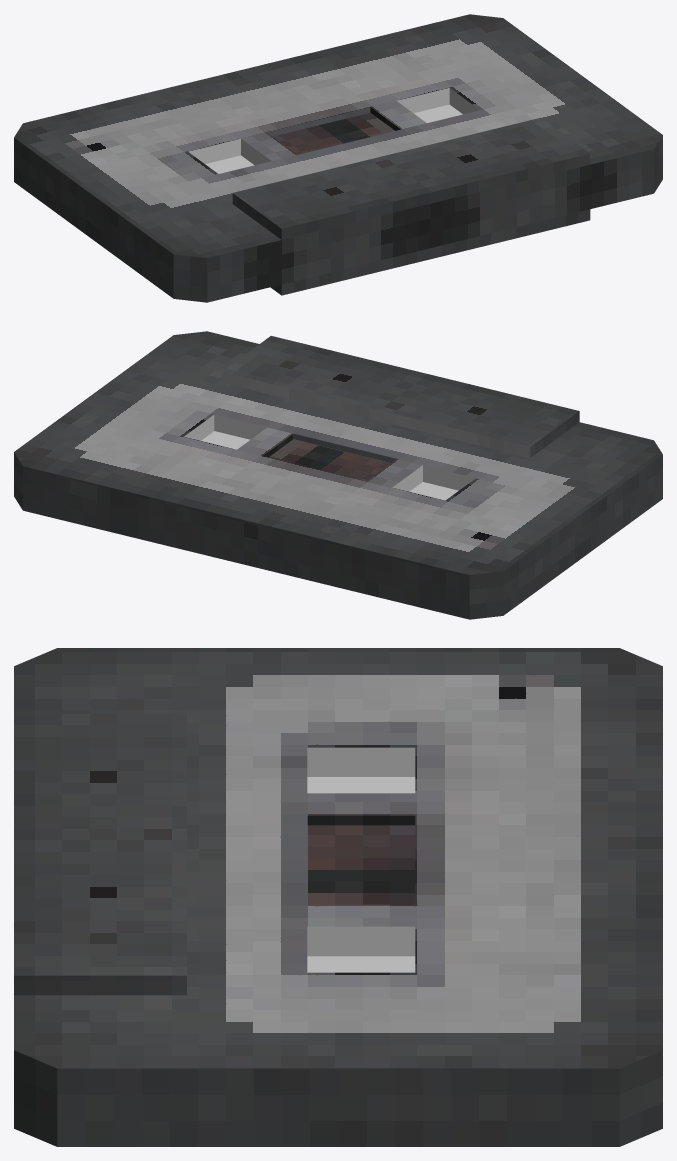
Rendered from cassette_tape_mp_2.obj.
The picture shows the model from 3 angles, top to bottom: view 1: azimuth 30°, elevation 25°; view 2: azimuth 150°, elevation 25°; view 3: azimuth 270°, elevation 25°; orthographic projection. The views are drawn at different scales.
Parts seen in each view (by area): view 1: cassette_tape_mp_2; view 2: cassette_tape_mp_2; view 3: cassette_tape_mp_2.
Part boxes in pixels (x1,y1,x2,y2): cassette_tape_mp_2: [14, 14, 662, 302]; cassette_tape_mp_2: [14, 331, 662, 619]; cassette_tape_mp_2: [14, 648, 662, 1146].
Size of the model in its own units: 0.1656 by 0.0216 by 0.108.
